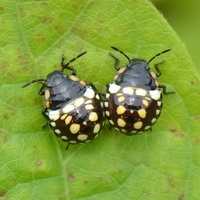insect: (22, 46, 173, 147), (22, 52, 104, 147), (104, 46, 170, 134)
